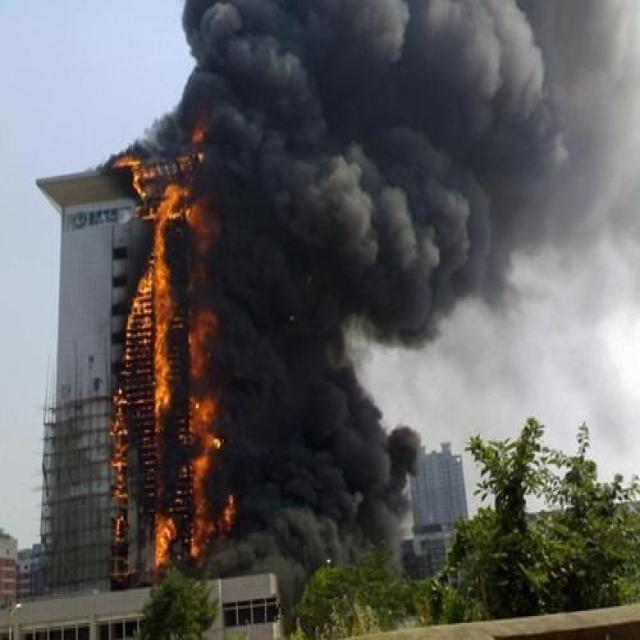Fire: (112, 148, 236, 572)
Smoke: (98, 1, 640, 607)
